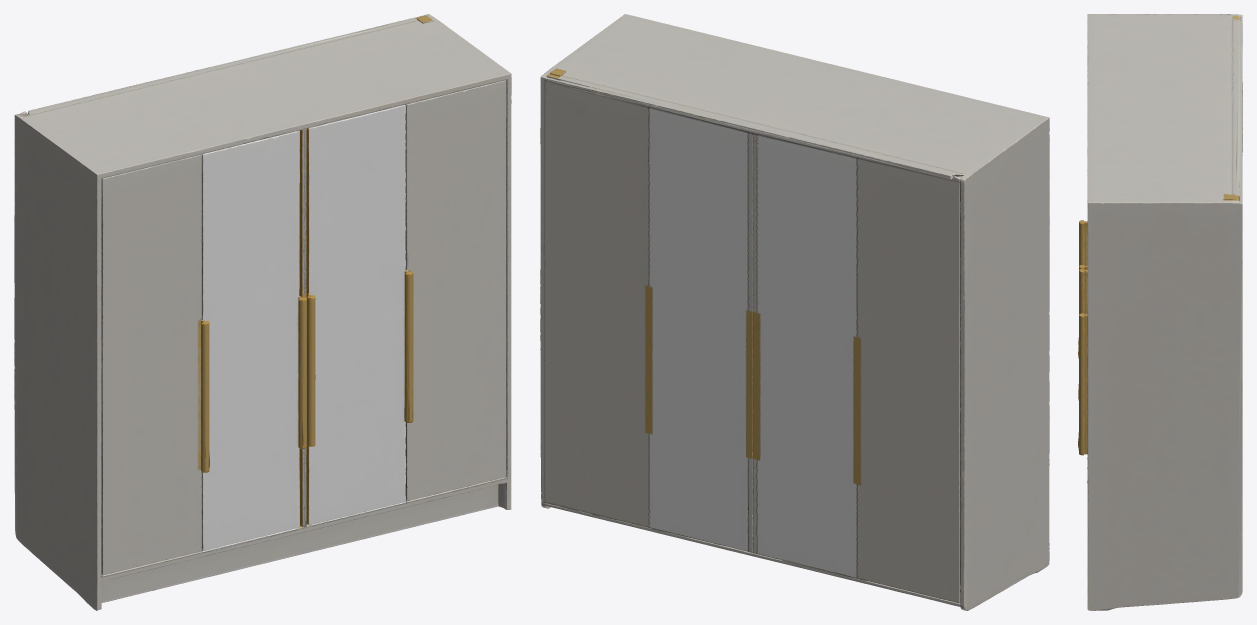
The model's file is No Name-07.glb.
3 renders of one model, left to right at view 1: azimuth 30°, elevation 25°; view 2: azimuth 150°, elevation 25°; view 3: azimuth 270°, elevation 25°, orthographic. The views are drawn at different scales.
Visible parts, largest first — view 1: tripo_node_fd31e9bf-5494-4514-9dc8-65706cc21731; view 2: tripo_node_fd31e9bf-5494-4514-9dc8-65706cc21731; view 3: tripo_node_fd31e9bf-5494-4514-9dc8-65706cc21731.
Part boxes in pixels (box(x1,y1,x2,y2)): tripo_node_fd31e9bf-5494-4514-9dc8-65706cc21731: box(14, 14, 511, 610); tripo_node_fd31e9bf-5494-4514-9dc8-65706cc21731: box(540, 14, 1049, 610); tripo_node_fd31e9bf-5494-4514-9dc8-65706cc21731: box(1078, 14, 1242, 610).
Bounding box in the file's own units: 0.9674 × 0.9799 × 0.3569.
Materials: 1 (1 with a texture image).
